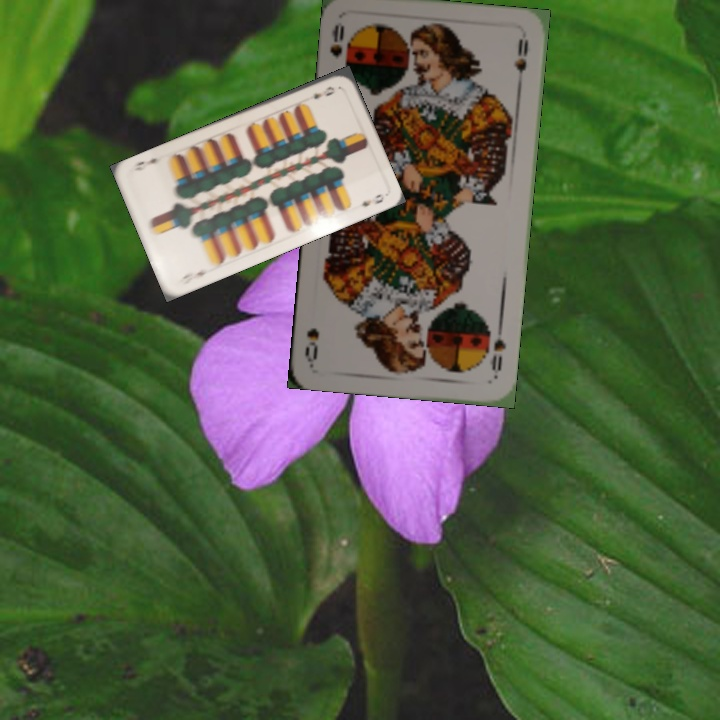E9: (175, 267, 213, 288), (310, 82, 338, 102)
SO: (487, 321, 509, 374), (325, 18, 347, 61)
